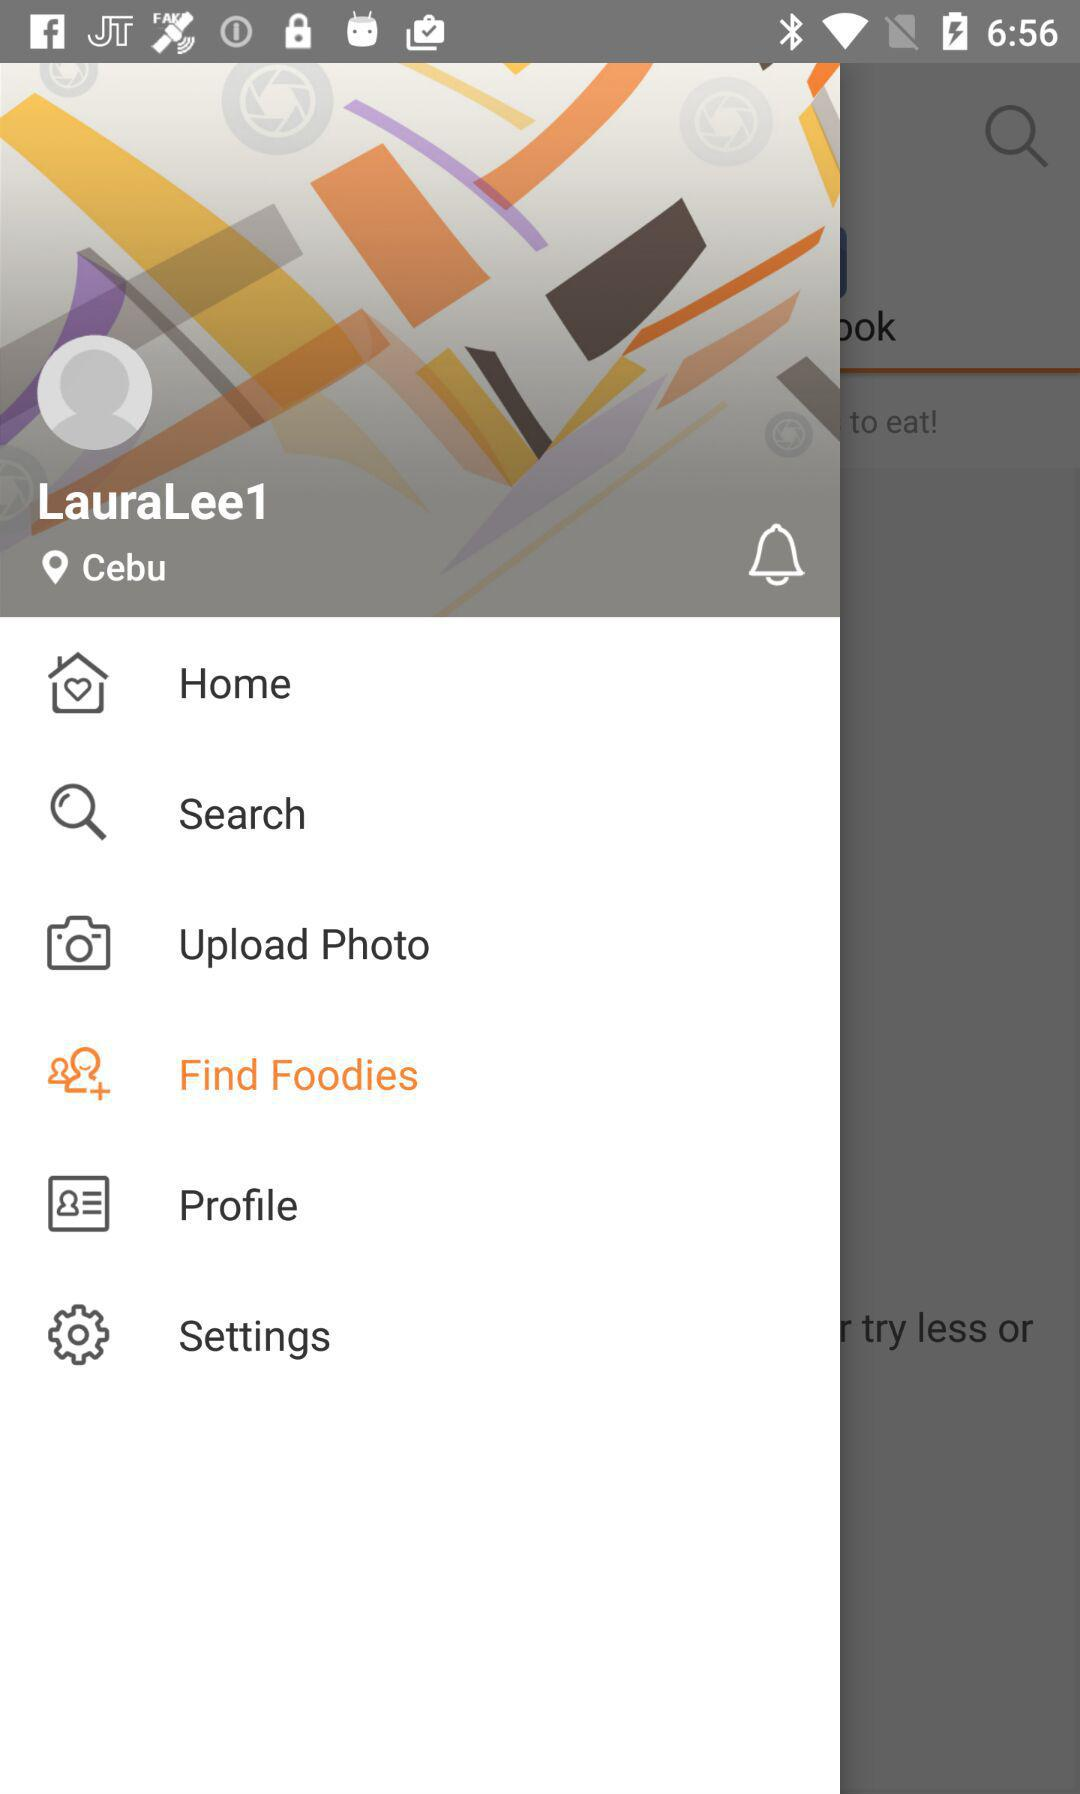Drawer: (1, 64, 840, 1794)
Icon: (37, 334, 154, 451), (985, 105, 1049, 169), (47, 1303, 111, 1367), (47, 651, 111, 714), (747, 523, 808, 588), (47, 1175, 111, 1233), (47, 1046, 113, 1102), (47, 915, 111, 971), (50, 783, 109, 842), (42, 548, 70, 586)
Text: (181, 926, 430, 970), (38, 482, 266, 522), (181, 1057, 419, 1093), (179, 1319, 332, 1362), (179, 796, 306, 832), (179, 1187, 299, 1222), (179, 666, 292, 701), (82, 552, 167, 586)
UpperTaskBar: (1, 1, 1080, 64)
